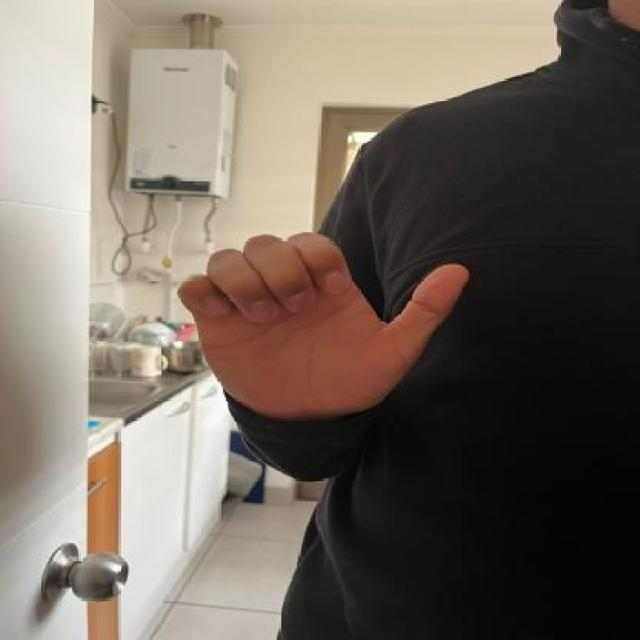E: (164, 221, 470, 416)
